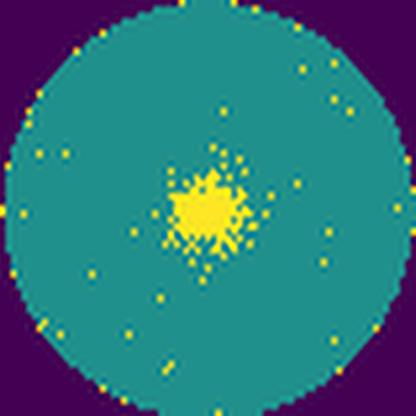Center: (173, 166, 256, 260)
